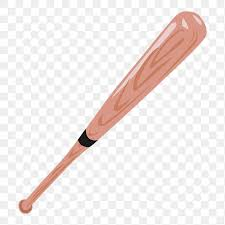baseball bat: (18, 8, 209, 212)
